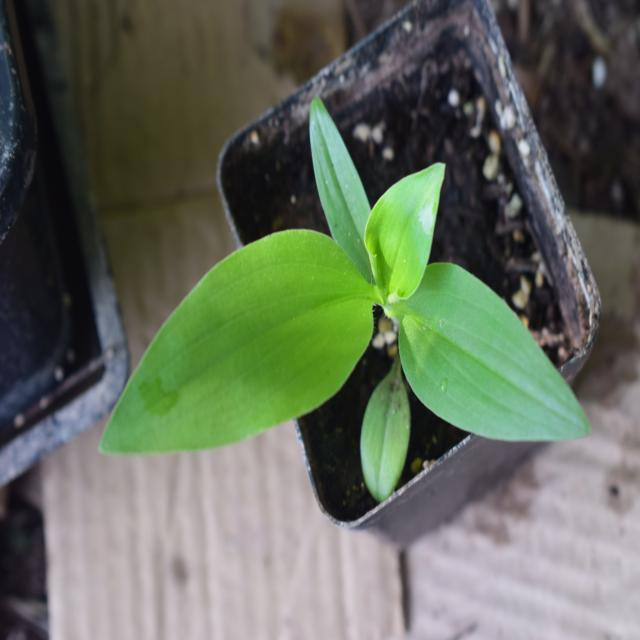Common Dayflower: (102, 150, 594, 497)
